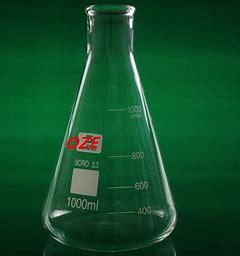Titrarion: (38, 3, 181, 247)
